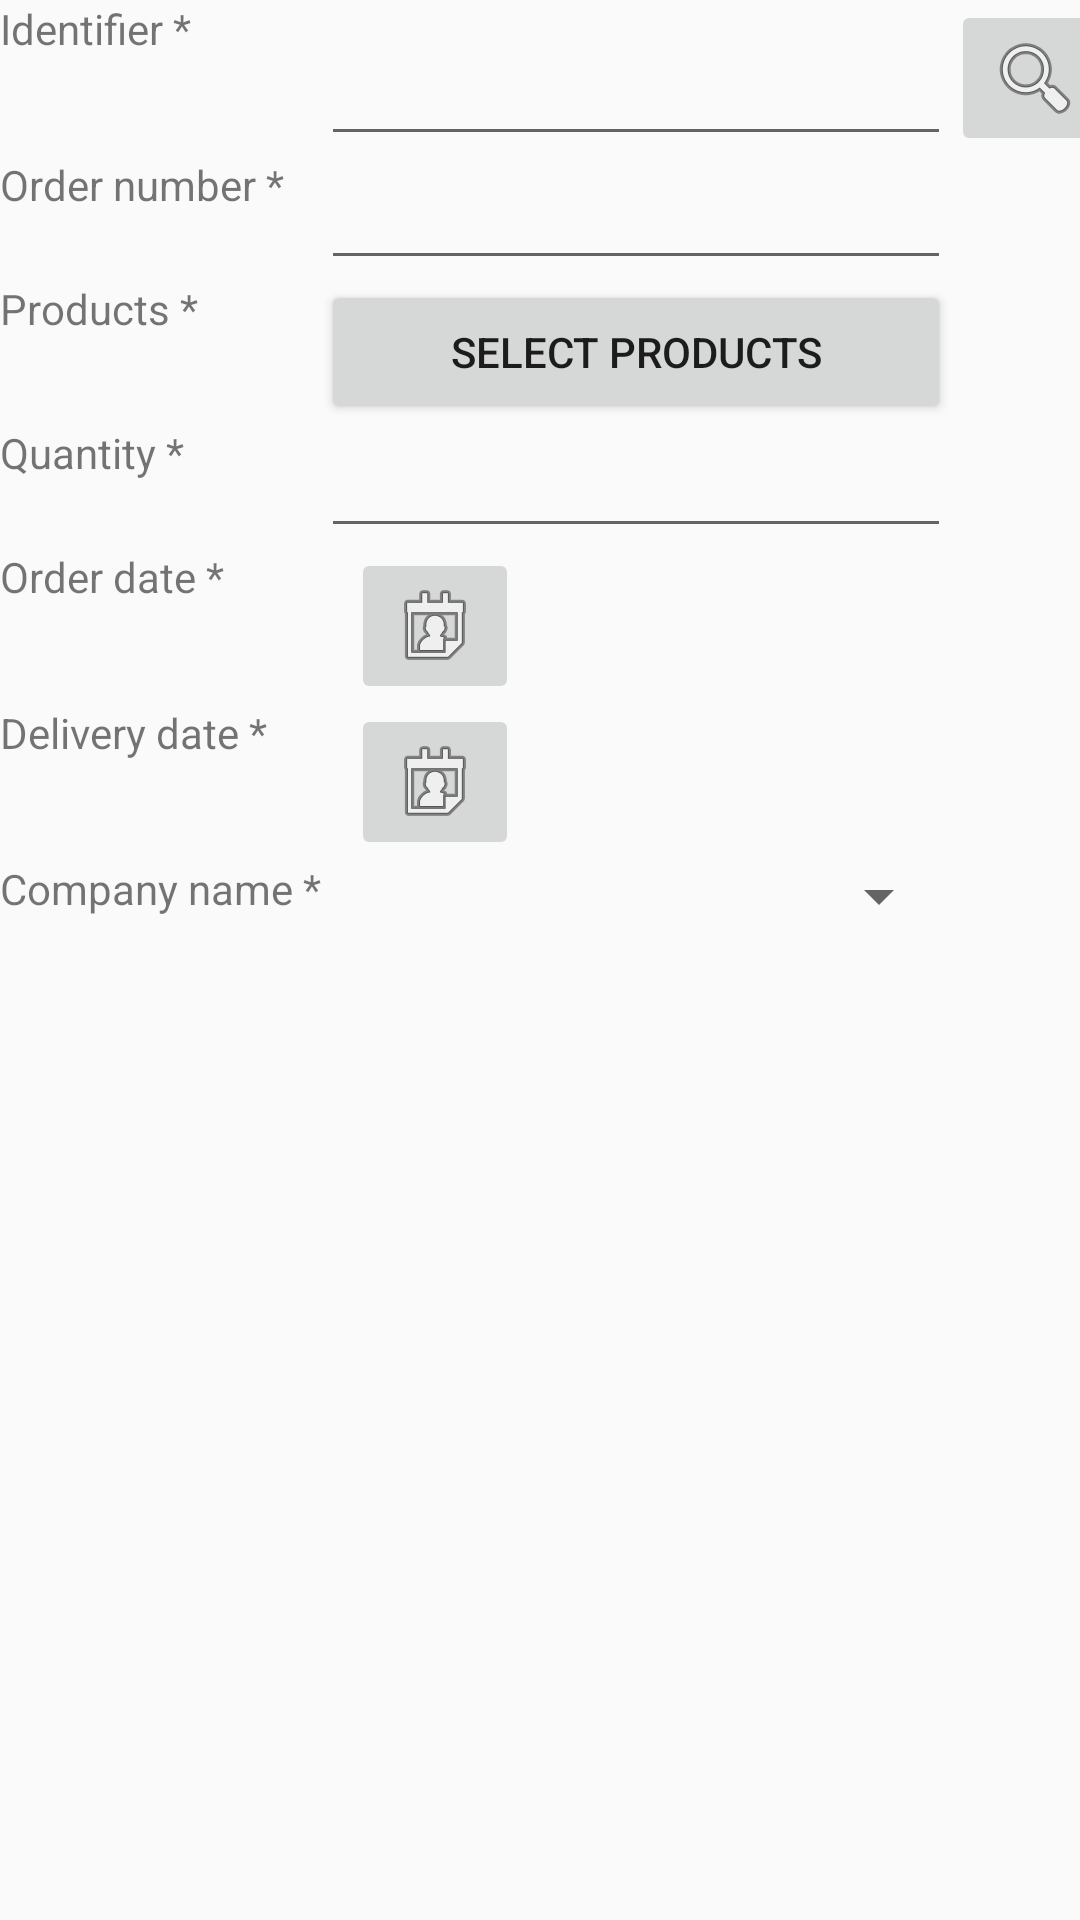

Named icons in this screenshot (1080*1920) and their bounding boxes, (x1, y1, x2, y2):
calendar: (363, 566, 507, 686), (363, 722, 507, 842)
